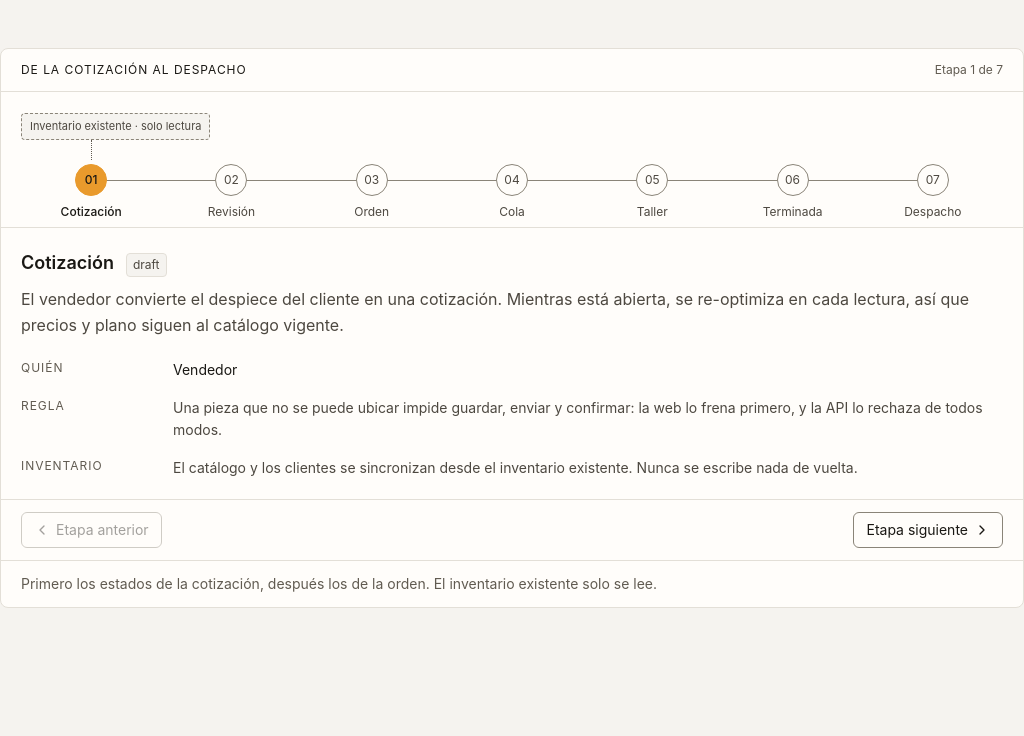
Test: OrderPipeline › shows the workshop's parallel activities
This screenshot has width=1024, height=736.
Click the tab "05 Taller".
click(652, 195)  # box 582,164 -> 722,226
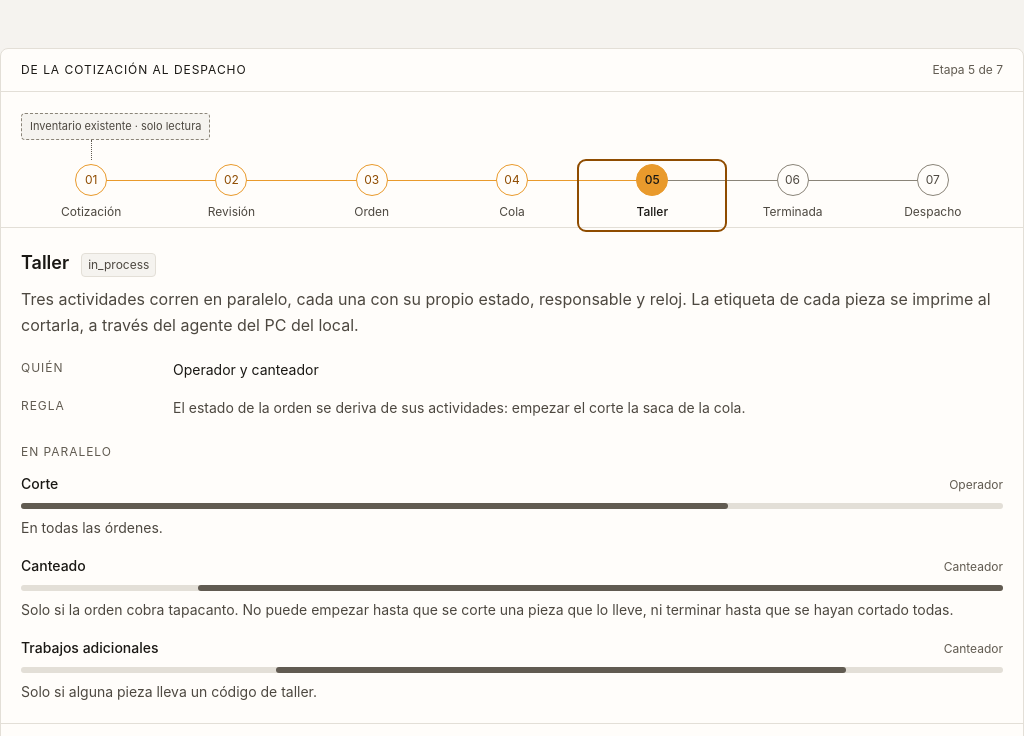
Expected: the panel shows "Corte", 21,475 -> 58,492
Expected: the panel shows "Canteado", 21,557 -> 86,574
Expected: the panel shows "Trabajos adicionales", 21,639 -> 158,656
